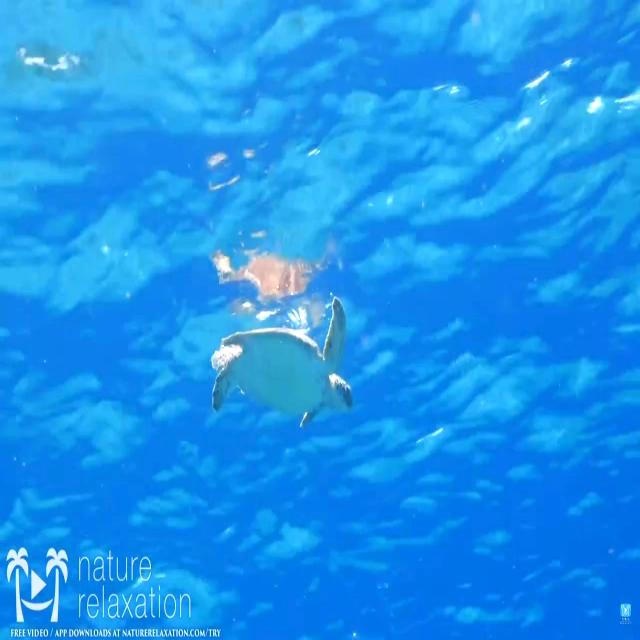Sea turtle: (210, 293, 358, 431)
